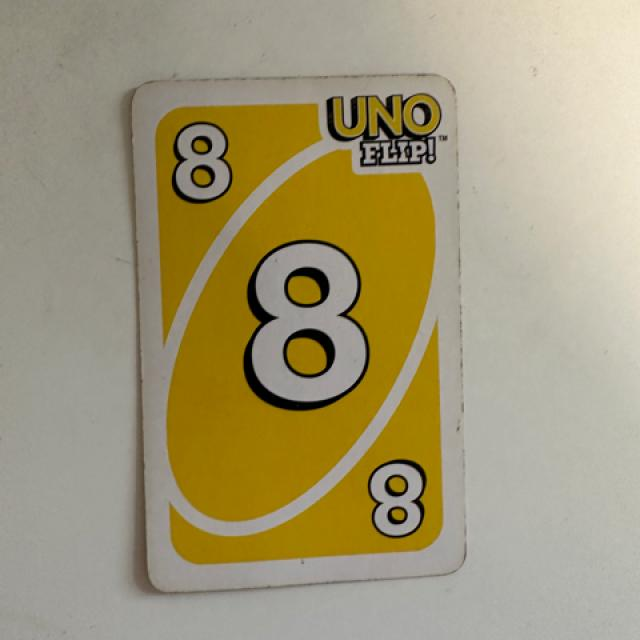lyellow-8: (145, 99, 259, 222)
